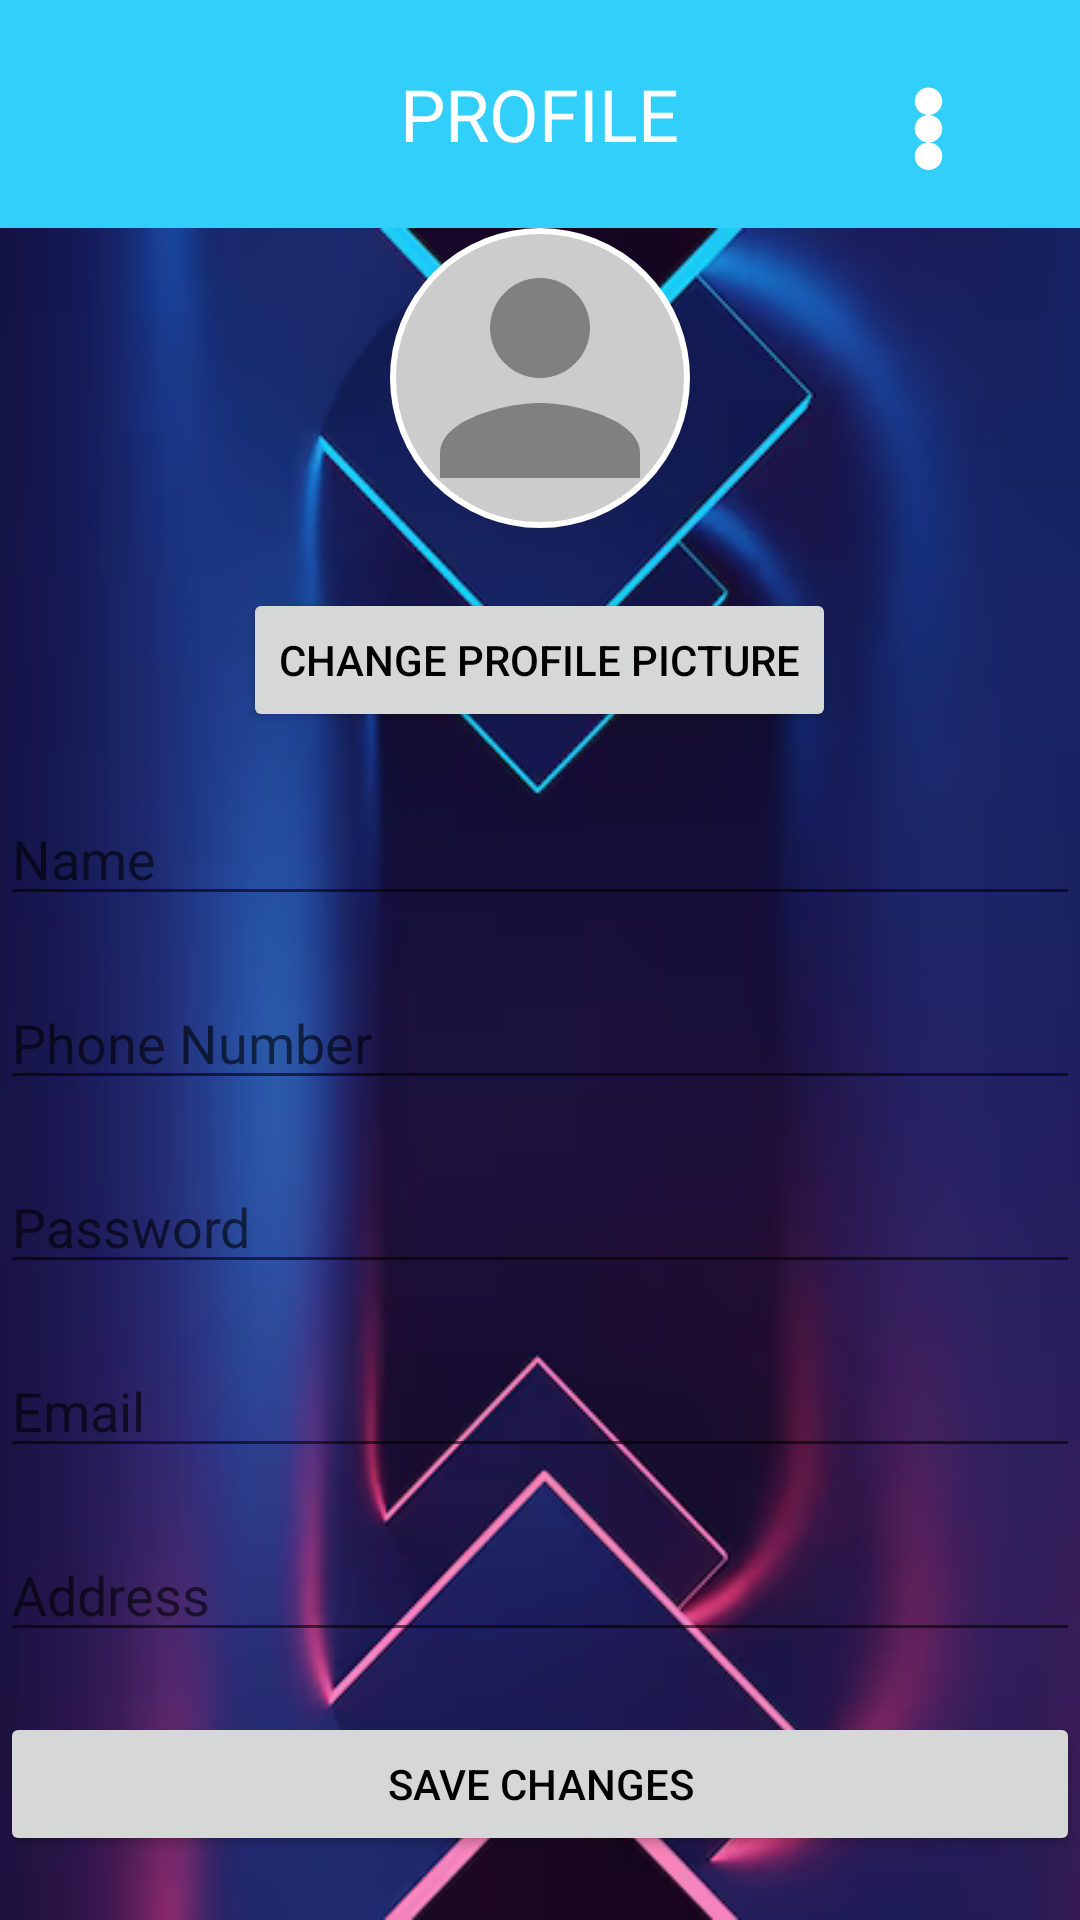

Icons on this 1080 × 1920 Android screen, each with the point to tap as point (x, y):
Menu: point (928, 128)
